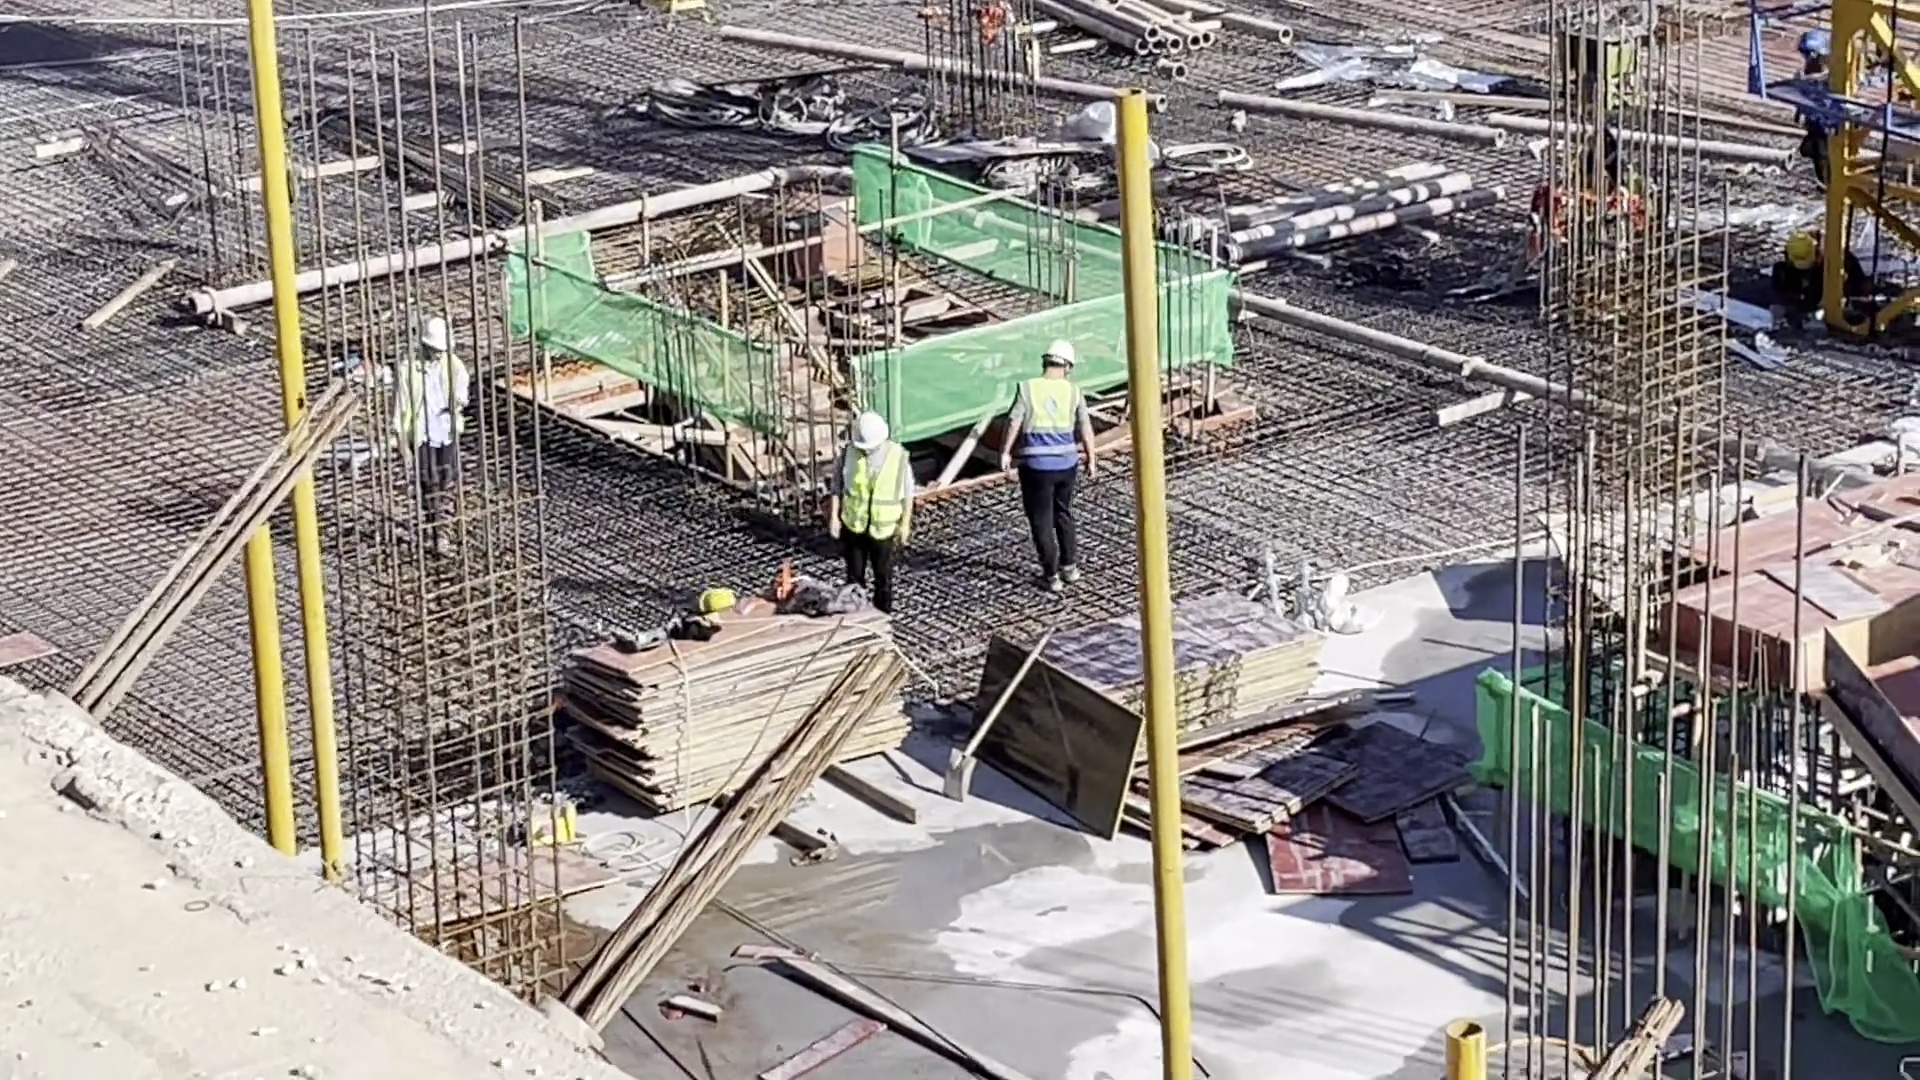board: (566, 575, 911, 816), (1007, 587, 1337, 740)
helmet: (1780, 231, 1815, 272), (847, 417, 891, 446), (420, 320, 454, 354), (692, 587, 736, 609), (1046, 340, 1077, 362)
person: (1003, 341, 1099, 590), (825, 415, 915, 606), (401, 317, 474, 553), (1772, 230, 1866, 317)
vest: (400, 351, 469, 449), (837, 450, 903, 542), (1015, 379, 1081, 469)
